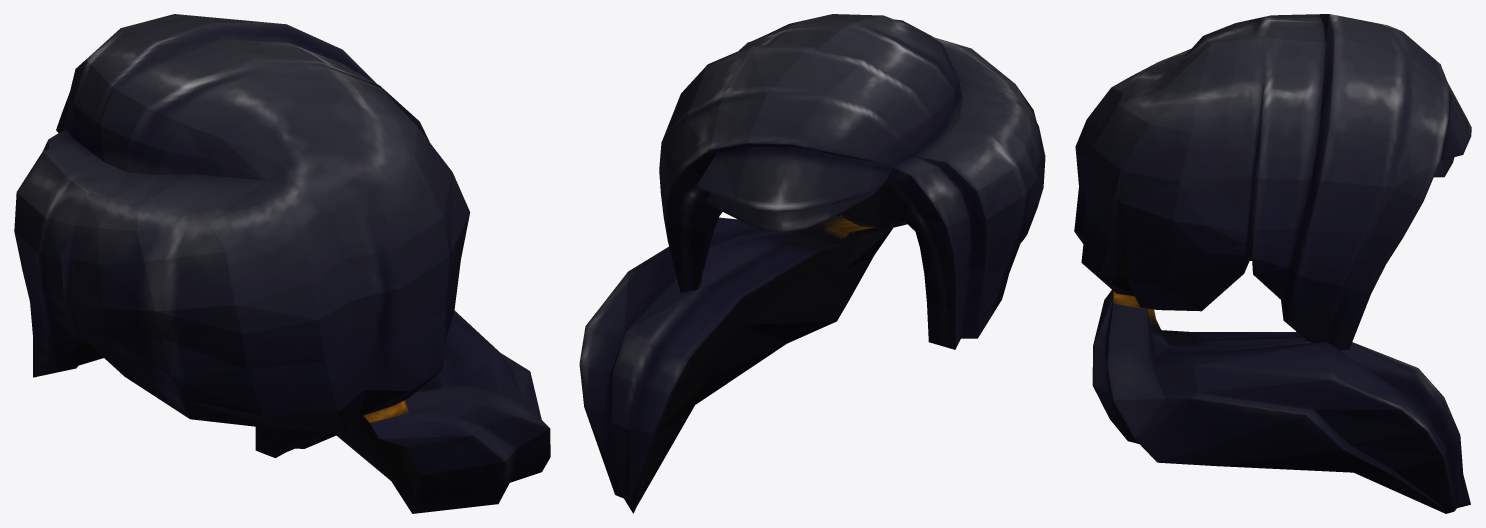
The model's file is hair_1__Object_5.glb.
The picture shows the model from 3 angles, left to right: view 1: azimuth 30°, elevation 25°; view 2: azimuth 150°, elevation 25°; view 3: azimuth 270°, elevation 25°; orthographic projection. The views are drawn at different scales.
Parts seen in each view (by area): view 1: geometry_0; view 2: geometry_0; view 3: geometry_0.
Boxes of the visible parts, box(x1,y1,x2,y2) form: geometry_0: box(14, 14, 550, 513); geometry_0: box(579, 14, 1045, 513); geometry_0: box(1074, 14, 1471, 513).
Bounding box in the file's own units: 1.7 × 1.87 × 1.6.
Materials: 1 (1 with a texture image).
